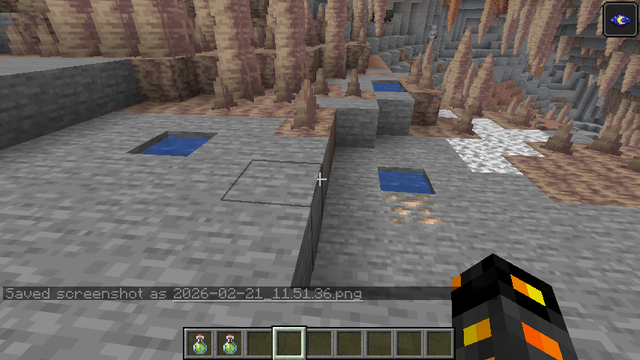iron: (380, 189, 444, 231)
